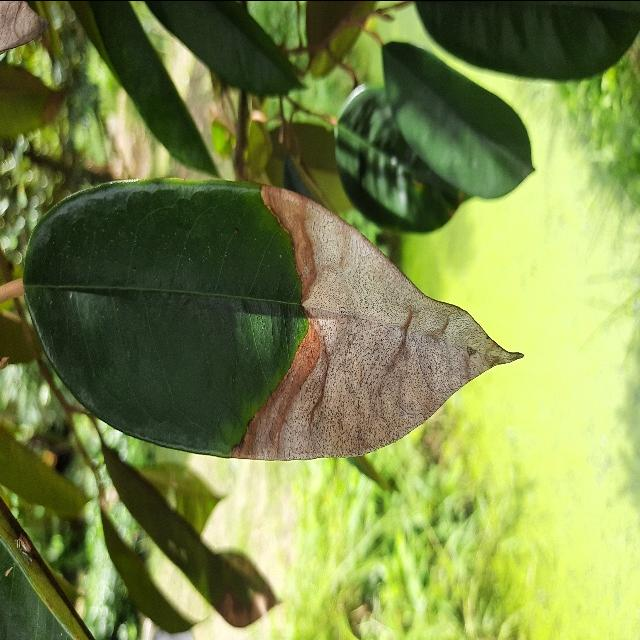Leaf Blight: (13, 167, 531, 467)
